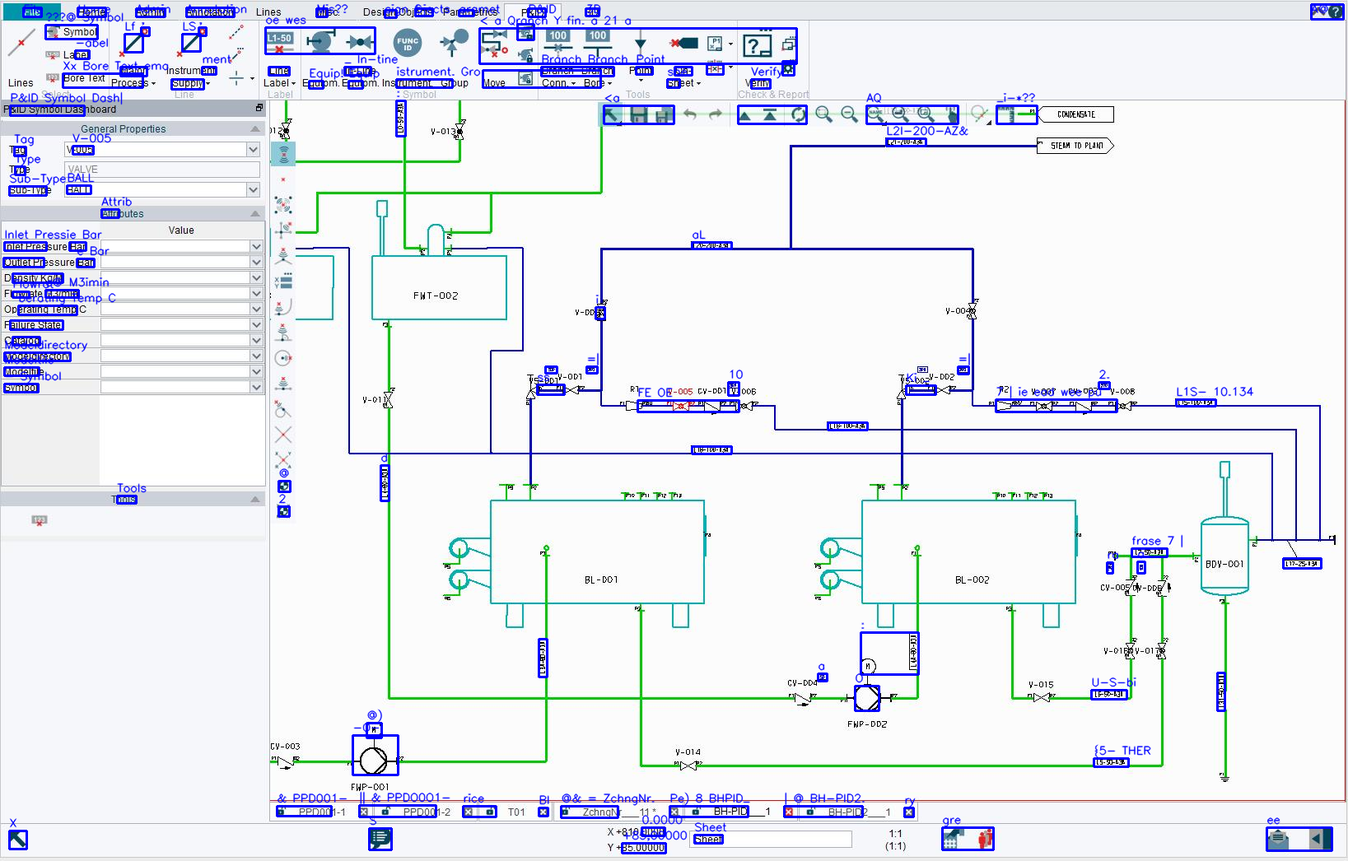Outro: (817, 496, 1080, 631), (447, 496, 707, 631), (363, 197, 508, 322)
Tanque: (1200, 514, 1250, 598)
TrocadordeCalor: (359, 719, 388, 777), (276, 754, 296, 767)
Turbina: (623, 399, 646, 414), (993, 399, 1015, 412)
Válvula: (852, 654, 884, 712), (525, 370, 544, 403), (893, 371, 912, 401), (451, 119, 466, 144), (1122, 576, 1139, 598), (1112, 398, 1134, 414), (1031, 690, 1054, 705), (381, 389, 396, 411), (1124, 640, 1138, 663), (1074, 398, 1094, 414), (1156, 576, 1169, 600), (278, 120, 292, 142), (595, 301, 609, 323), (792, 690, 814, 704), (1033, 399, 1056, 412), (702, 400, 724, 413), (734, 399, 755, 412), (561, 384, 583, 396), (670, 400, 691, 412), (931, 384, 952, 395), (1156, 641, 1167, 661), (679, 760, 699, 771), (967, 301, 977, 320)
